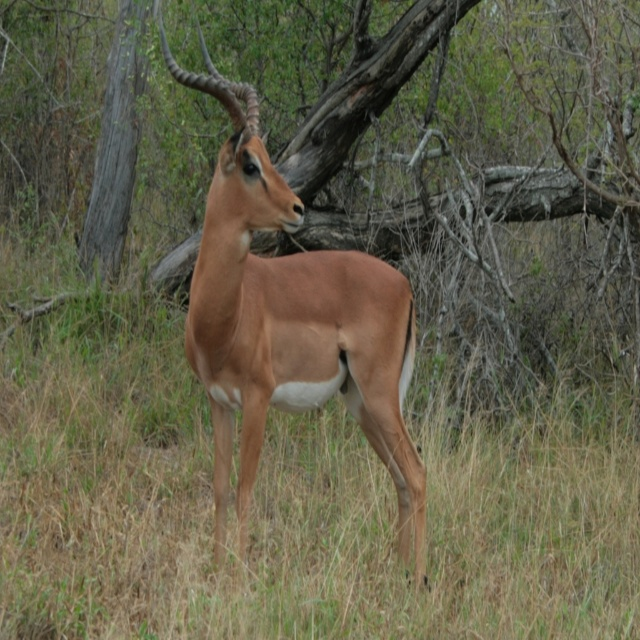Deer: (158, 10, 431, 595)
